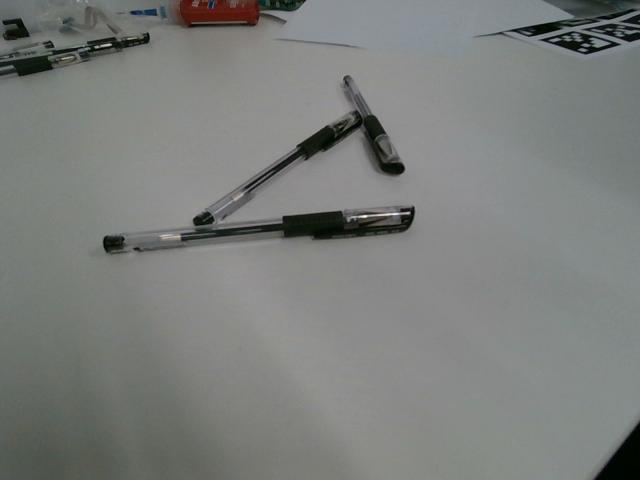pen: (103, 207, 416, 255)
